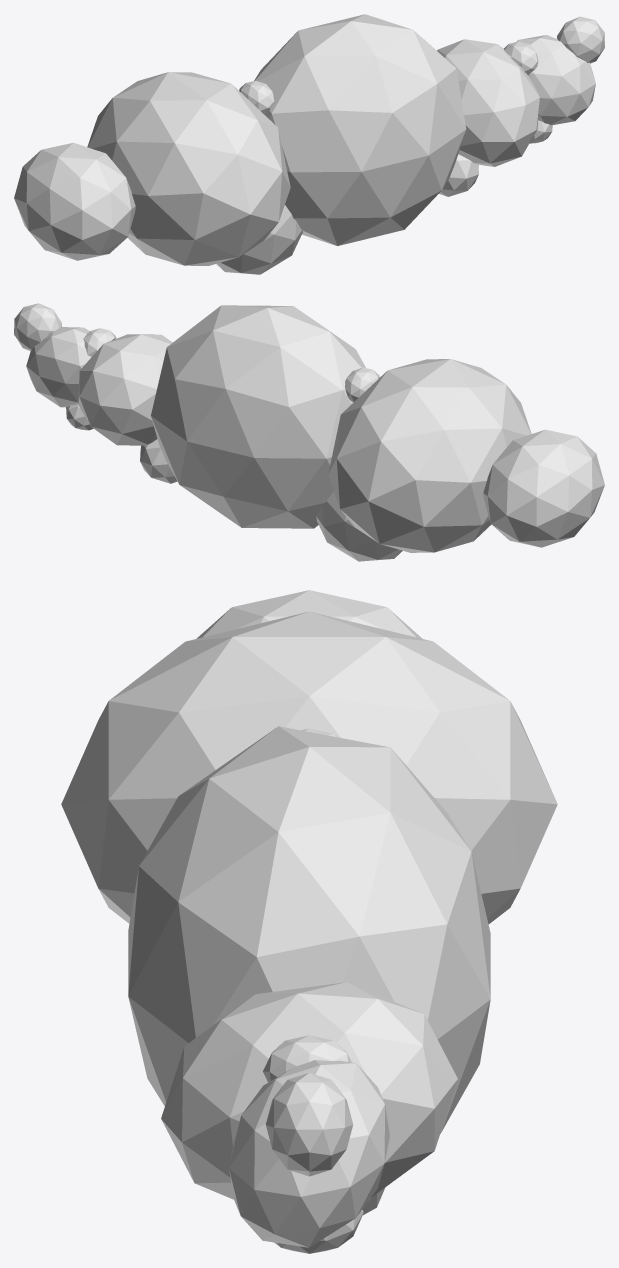
The model's file is Cloud_2.fbx.
The picture shows the model from 3 angles, top to bottom: view 1: azimuth 30°, elevation 25°; view 2: azimuth 150°, elevation 25°; view 3: azimuth 270°, elevation 25°; orthographic projection. The views are drawn at different scales.
Visible parts, largest first — view 1: Cloud_2; view 2: Cloud_2; view 3: Cloud_2.
Boxes of the visible parts, bbox=[...] form: Cloud_2: bbox=[14, 14, 604, 274]; Cloud_2: bbox=[14, 303, 604, 561]; Cloud_2: bbox=[61, 590, 557, 1253].
Size of the model in its own units: 27.75 by 10.32 by 10.35.
